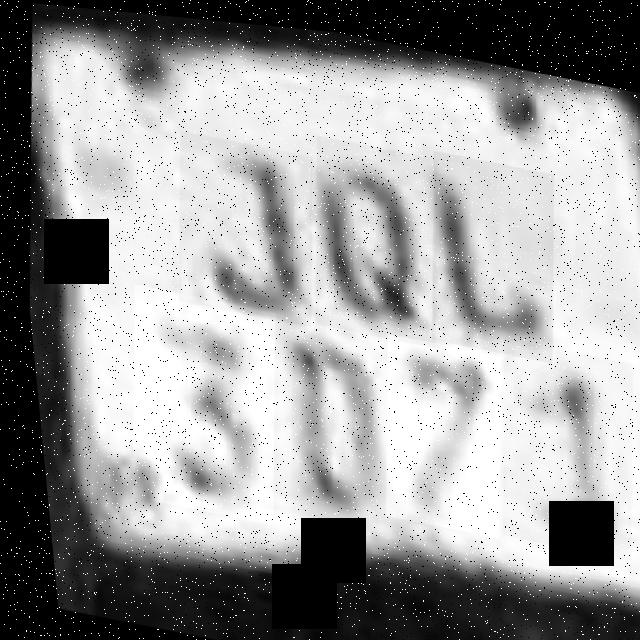0: (239, 297, 410, 529)
1: (477, 327, 640, 550)
3: (106, 280, 285, 522)
7: (362, 325, 509, 531)
J: (411, 140, 565, 355), (160, 125, 323, 323)
Q: (294, 127, 449, 341)
